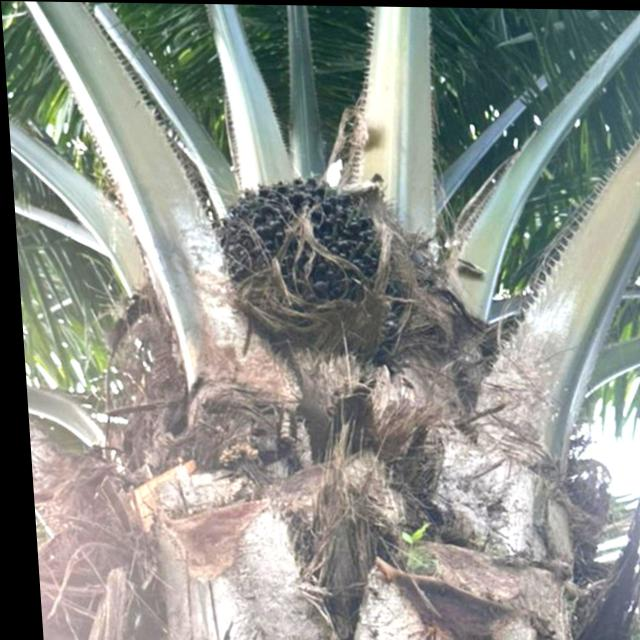unripe: (201, 167, 407, 345)
